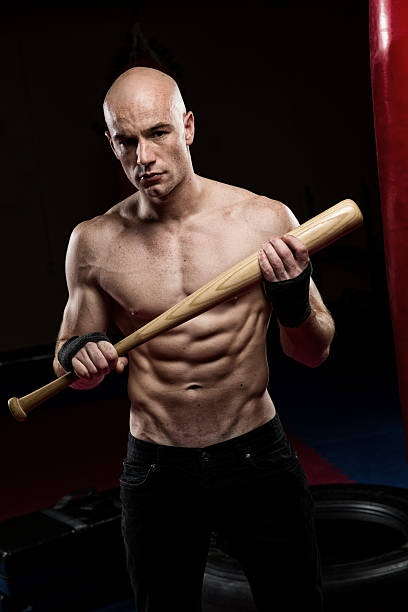bita: (17, 197, 348, 419)
